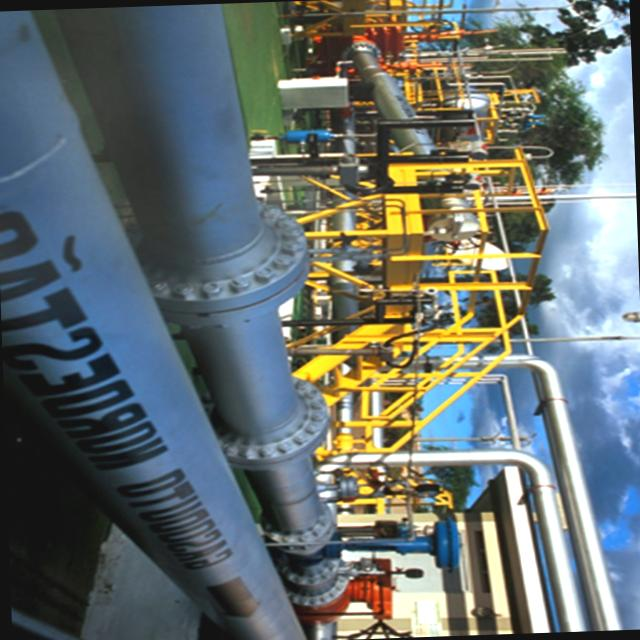gas: (0, 10, 309, 640), (59, 3, 340, 604), (416, 357, 614, 631), (323, 450, 586, 632)
